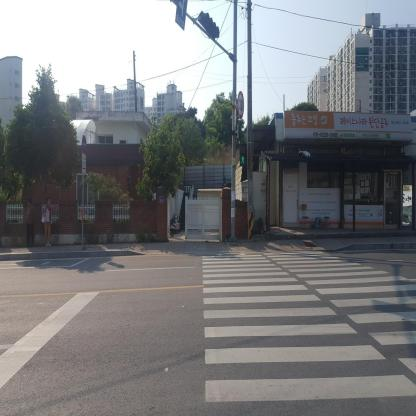Green: (239, 143, 246, 166)
